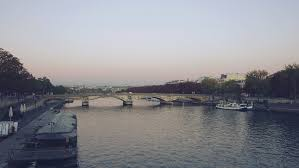lake: (73, 95, 298, 168)
sky: (4, 1, 296, 78)
